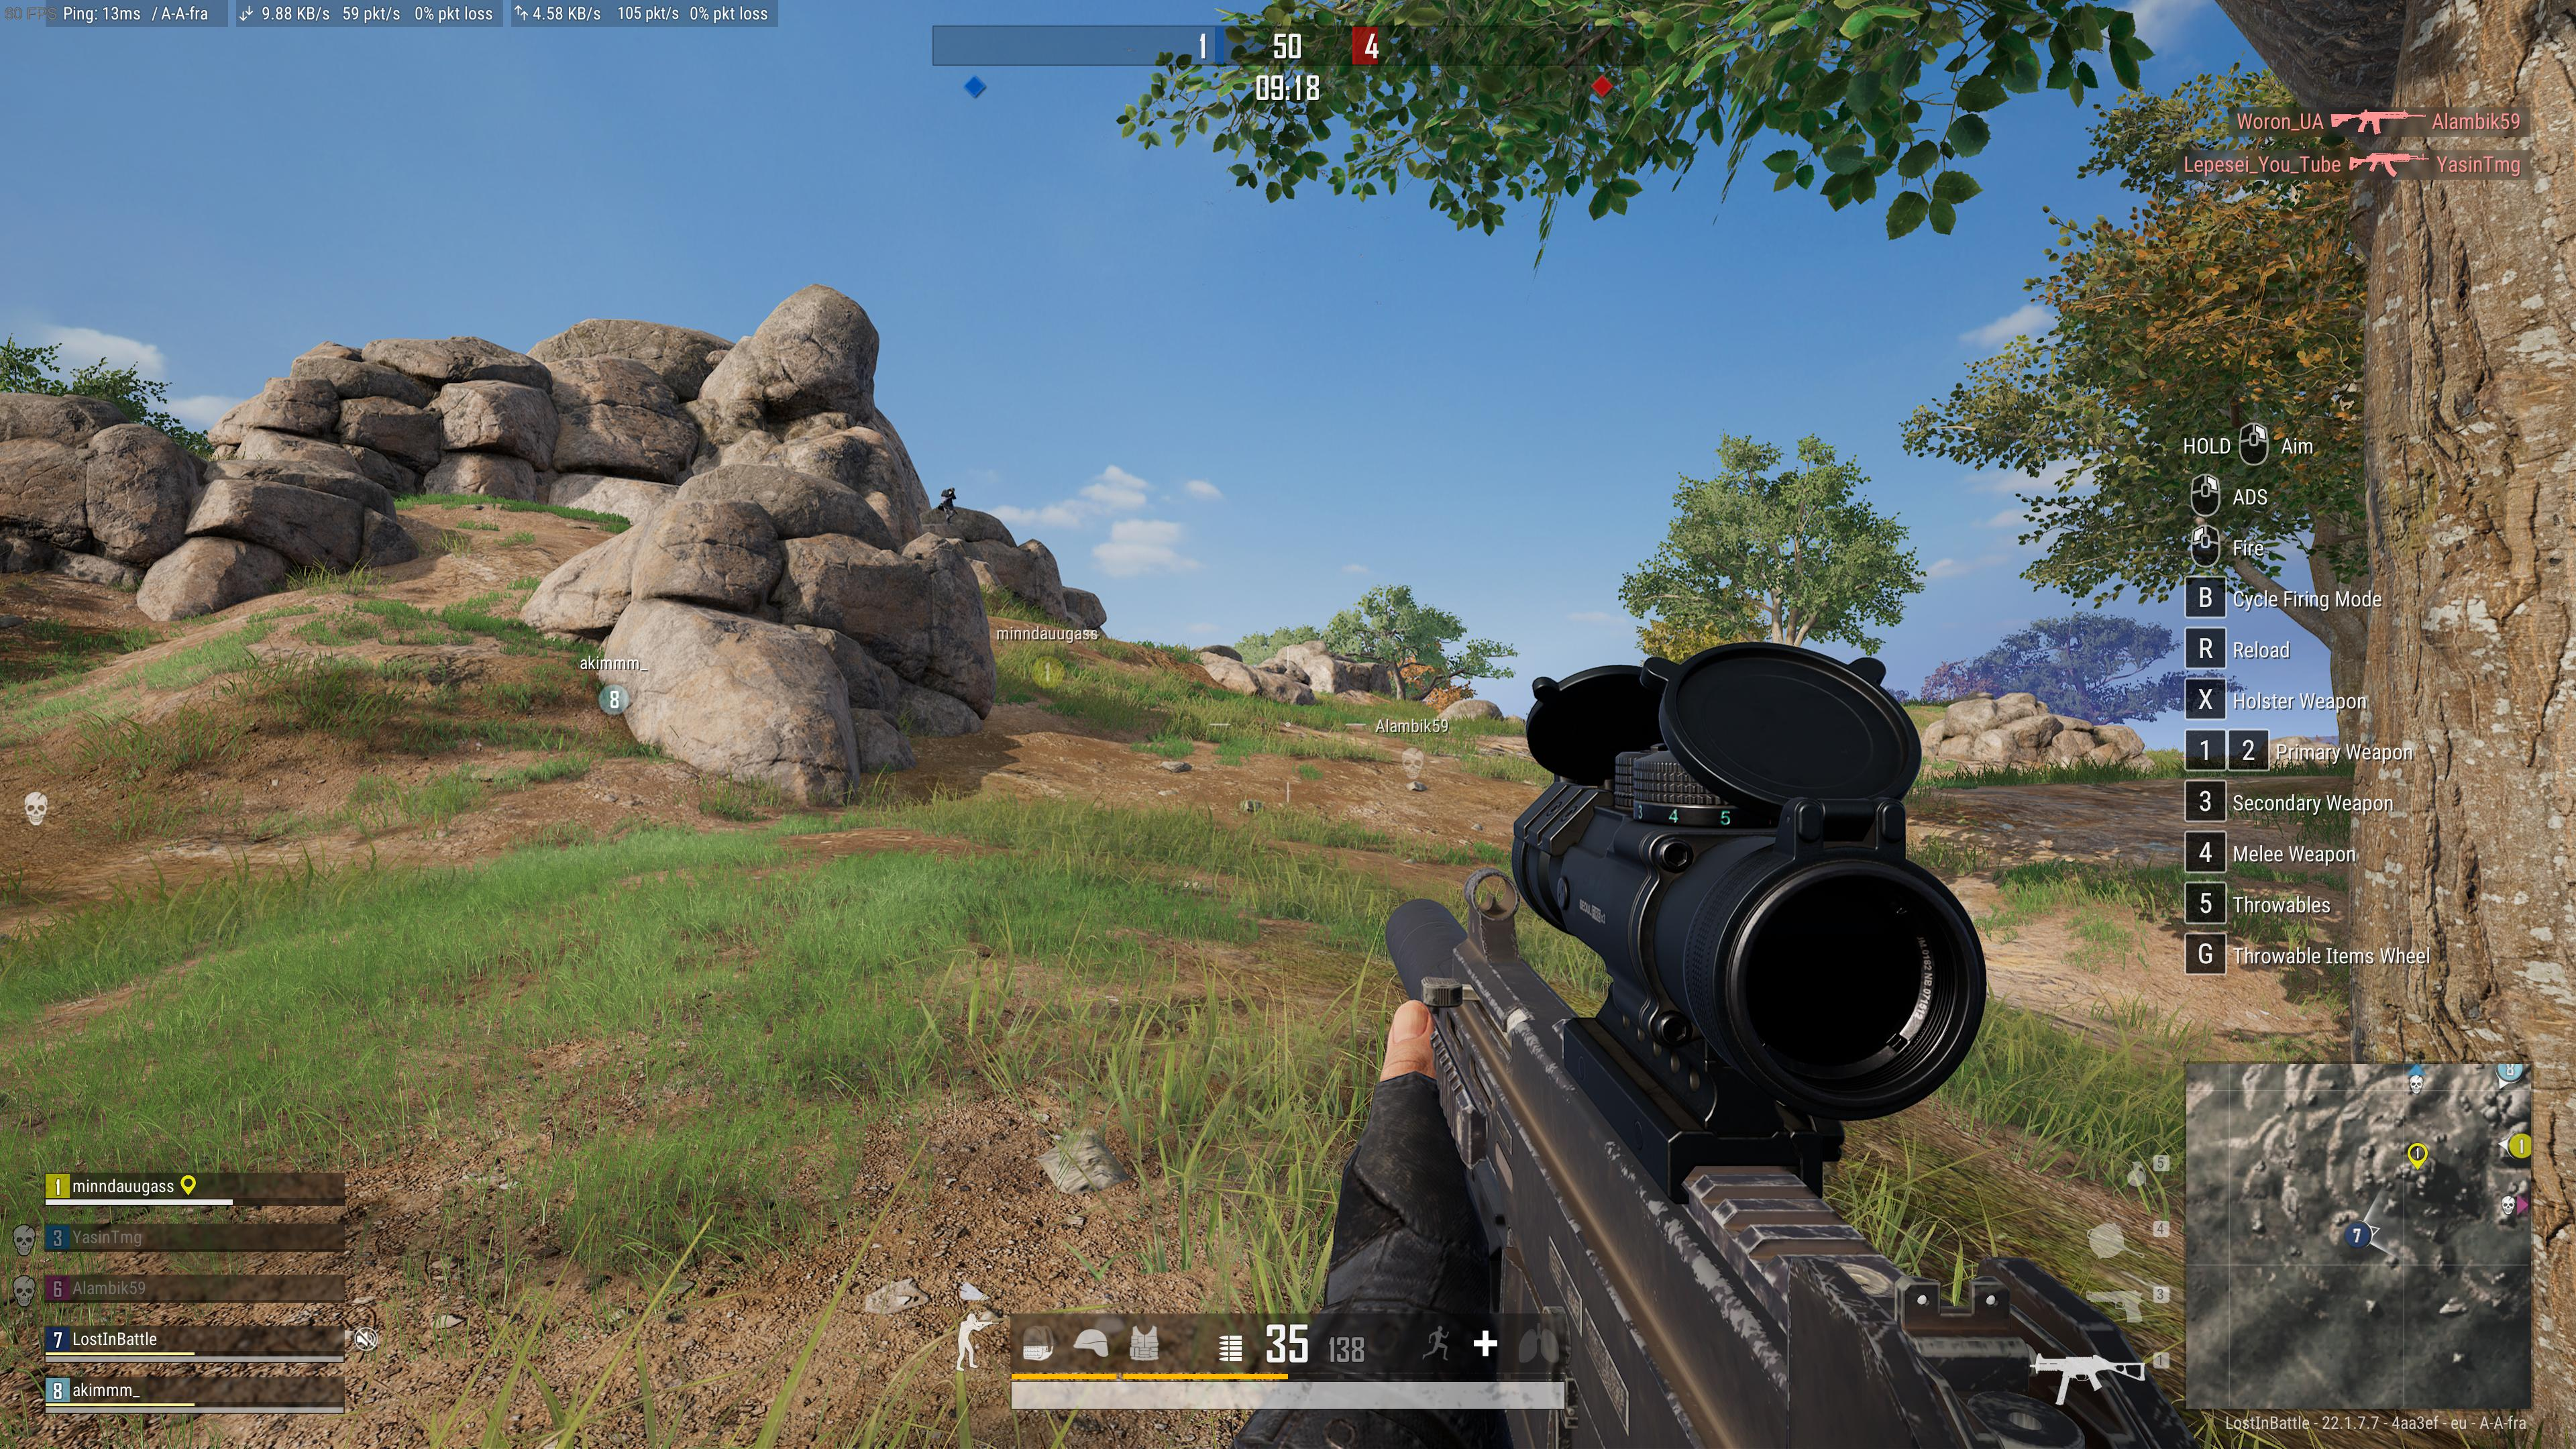enemy: (939, 487, 957, 524)
enemy_head: (947, 487, 955, 492)
